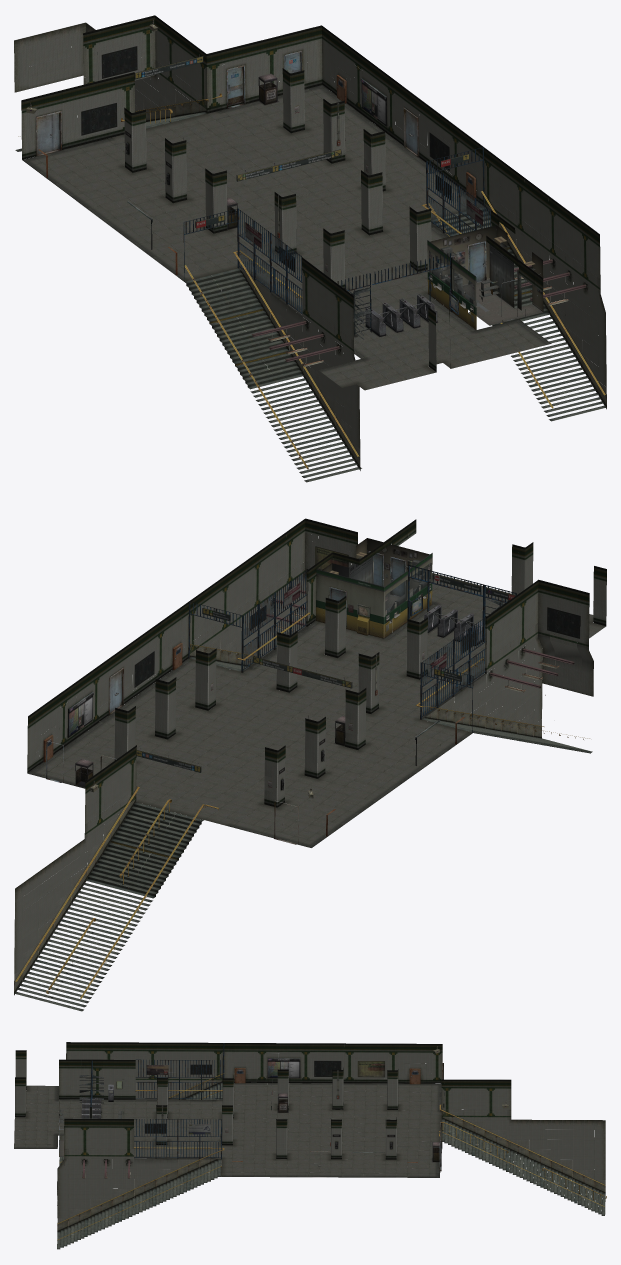
Rendered from subway_station.glb.
3 views of the same model, one above another, from view 1: azimuth 30°, elevation 25°; view 2: azimuth 150°, elevation 25°; view 3: azimuth 270°, elevation 25° (orthographic). The views are drawn at different scales.
Parts seen in each view (by area): view 1: FrontSide_8, FrontSide_11, FrontSide_6, FrontSide_7, FrontSide_0, FrontSide_10, FrontSide_4, FrontSide_5, FrontSide_2, FrontSide_1, FrontSide_9; view 2: FrontSide_8, FrontSide_11, FrontSide_6, FrontSide_7, FrontSide_0, FrontSide_1, FrontSide_5, FrontSide_4, FrontSide_10, FrontSide_2, FrontSide_9; view 3: FrontSide_11, FrontSide_8, FrontSide_6, FrontSide_0, FrontSide_7, FrontSide_4, FrontSide_5, FrontSide_2, FrontSide_9.
Part boxes in pixels (left/top/right/bottom): FrontSide_8: left=22, top=75, right=551, bottom=390; FrontSide_11: left=21, top=15, right=600, bottom=427; FrontSide_6: left=15, top=87, right=606, bottom=482; FrontSide_7: left=127, top=51, right=586, bottom=362; FrontSide_0: left=14, top=22, right=606, bottom=448; FrontSide_10: left=429, top=225, right=543, bottom=325; FrontSide_4: left=77, top=41, right=482, bottom=272; FrontSide_5: left=124, top=56, right=469, bottom=314; FrontSide_2: left=26, top=19, right=568, bottom=366; FrontSide_1: left=427, top=240, right=540, bottom=329; FrontSide_9: left=125, top=73, right=345, bottom=229; FrontSide_8: left=27, top=573, right=605, bottom=847; FrontSide_11: left=22, top=518, right=606, bottom=953; FrontSide_6: left=14, top=612, right=592, bottom=1011; FrontSide_7: left=46, top=565, right=574, bottom=782; FrontSide_0: left=14, top=519, right=593, bottom=973; FrontSide_1: left=316, top=551, right=432, bottom=638; FrontSide_5: left=136, top=573, right=515, bottom=806; FrontSide_4: left=132, top=542, right=583, bottom=770; FrontSide_10: left=322, top=538, right=430, bottom=631; FrontSide_2: left=43, top=587, right=559, bottom=844; FrontSide_9: left=75, top=715, right=345, bottom=790; FrontSide_11: left=15, top=1042, right=594, bottom=1208; FrontSide_8: left=14, top=1083, right=441, bottom=1177; FrontSide_6: left=57, top=1072, right=606, bottom=1249; FrontSide_0: left=57, top=1053, right=605, bottom=1218; FrontSide_7: left=79, top=1043, right=444, bottom=1178; FrontSide_4: left=64, top=1058, right=387, bottom=1159; FrontSide_5: left=91, top=1056, right=444, bottom=1159; FrontSide_2: left=82, top=1046, right=509, bottom=1178; FrontSide_9: left=278, top=1093, right=439, bottom=1161.
Size of what is drawn, in the model's own units: 20.12 by 11.08 by 51.15.
Materials: 12 (12 with a texture image).
